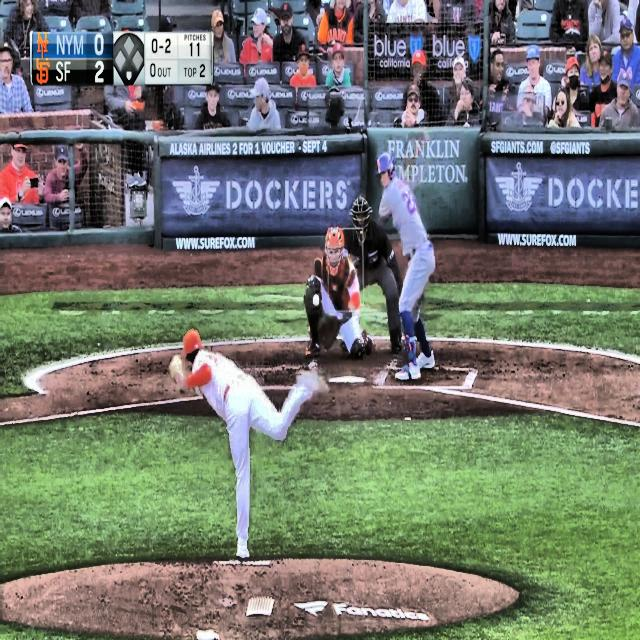baseball: (312, 293, 320, 307)
